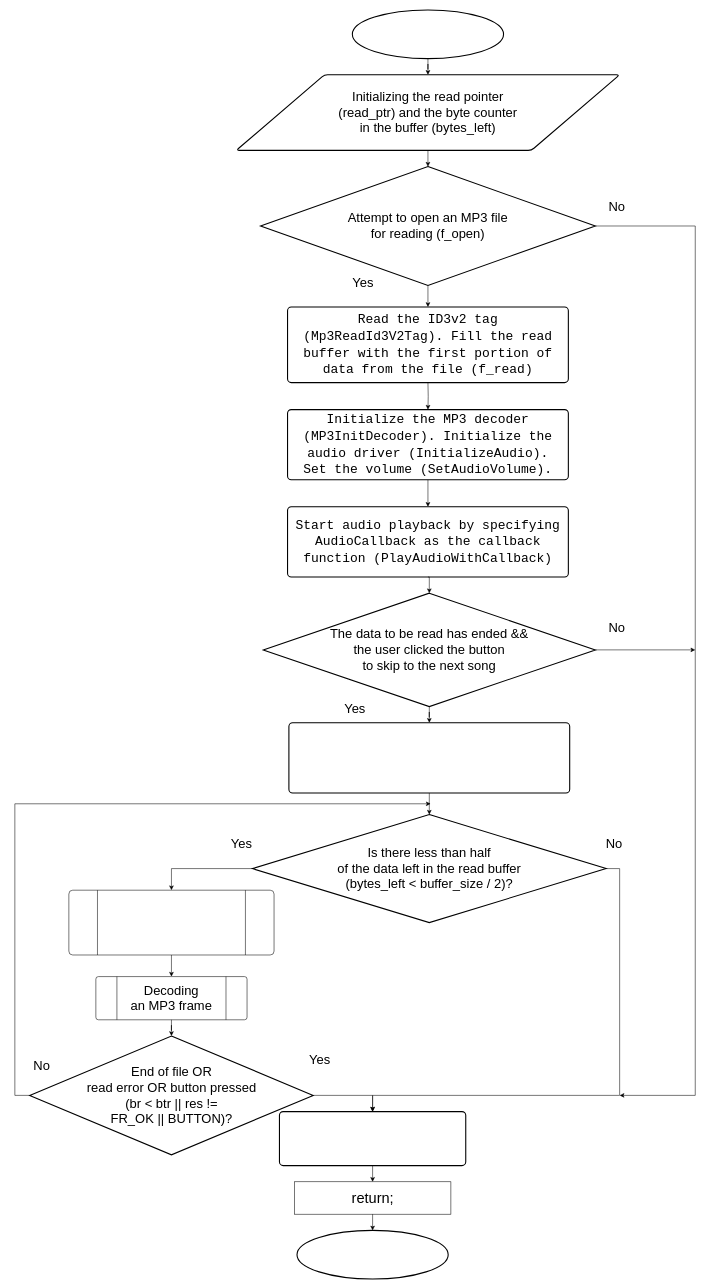
Image size: 709x1288. Some labels were removed from this diagram. The centre of each missing label's shape, as x and y in pixels:
End: point 372,1254
Pause playback and free up resources: point 372,1138
Processing Command Packets Received from the ESP32 (processUARTPacket): point 429,757
Start: point 428,34
We update `read_ptr` and read the next chunk of text.: point 171,922
